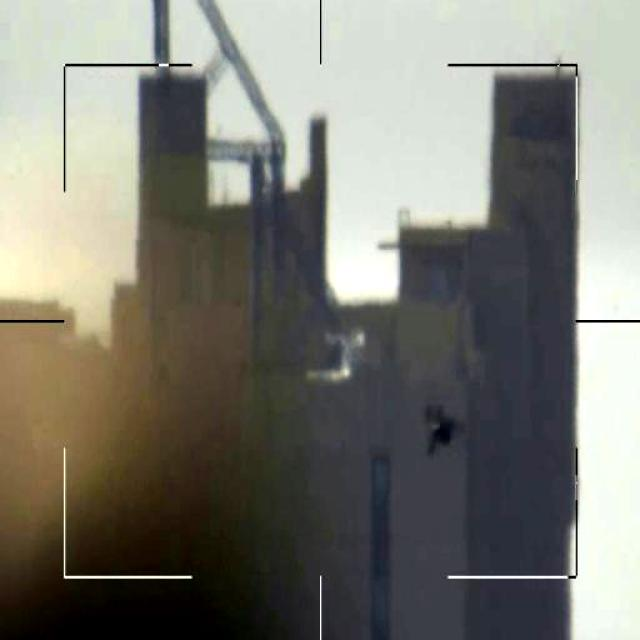bird: (420, 391, 471, 466)
